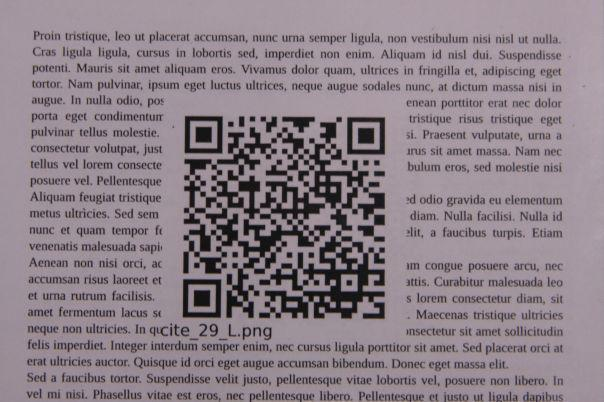Finder pattern: (341, 111, 391, 160), (176, 274, 225, 322), (180, 111, 226, 156)
